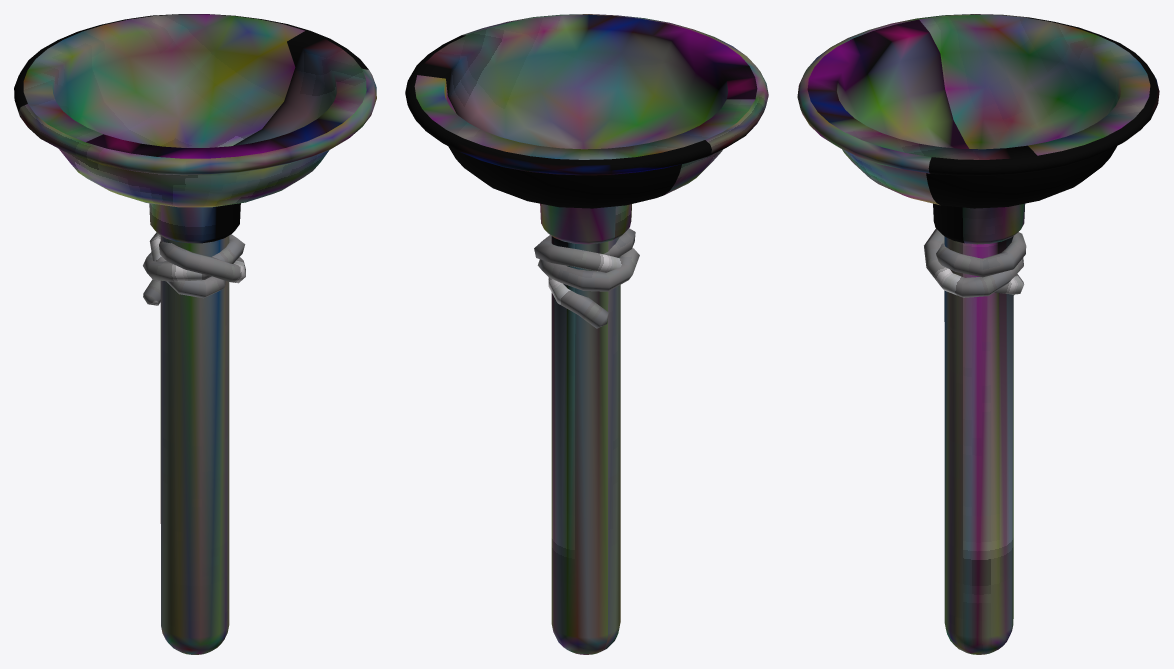
File: ItemsMode_01_Items_Plunger_SM.glb
3 renders of one model, left to right at view 1: azimuth 30°, elevation 25°; view 2: azimuth 150°, elevation 25°; view 3: azimuth 270°, elevation 25°, orthographic.
Visible parts, largest first — view 1: Items_Plunger_SM; view 2: Items_Plunger_SM; view 3: Items_Plunger_SM.
Part boxes in pixels (bbox=[...]): Items_Plunger_SM: bbox=[14, 14, 376, 654]; Items_Plunger_SM: bbox=[405, 14, 768, 654]; Items_Plunger_SM: bbox=[797, 14, 1159, 654].
Bounding box in the file's own units: 0.5207 × 0.8908 × 0.5179.
Materials: 2 (2 with a texture image).
